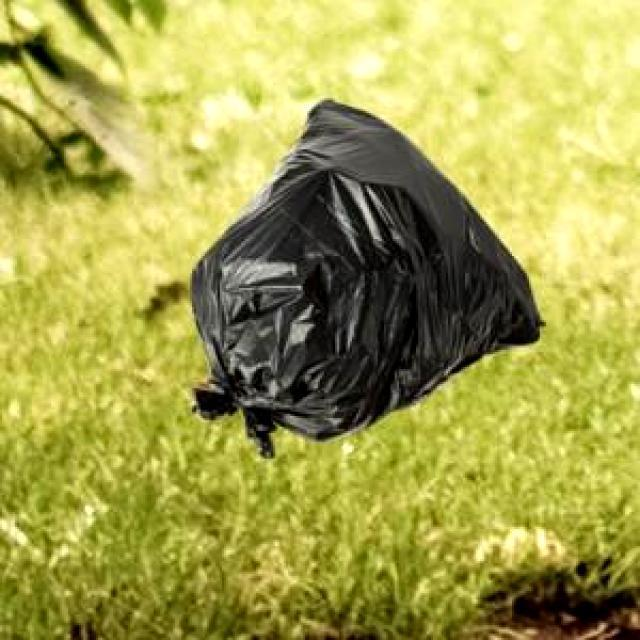Bolsa-de-nilon: (190, 100, 543, 461)
